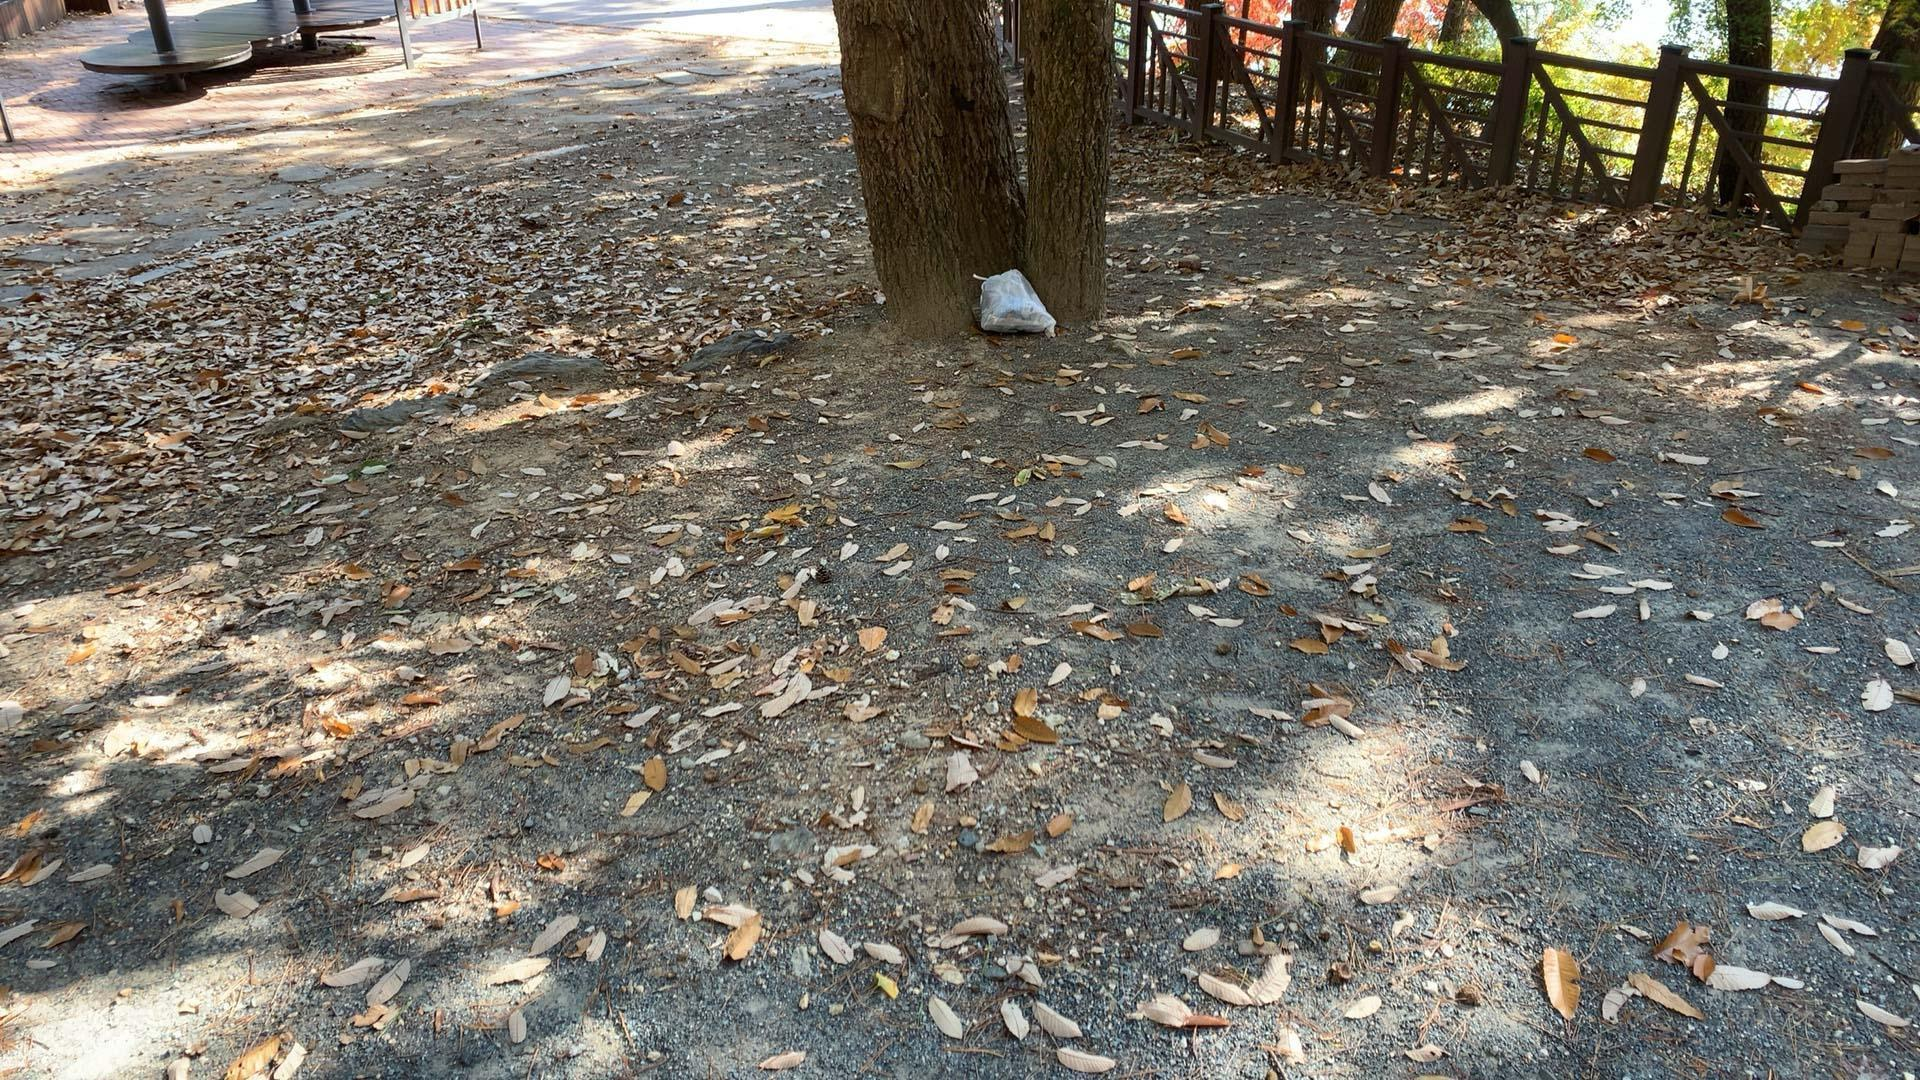white_bag: (969, 261, 1060, 342)
